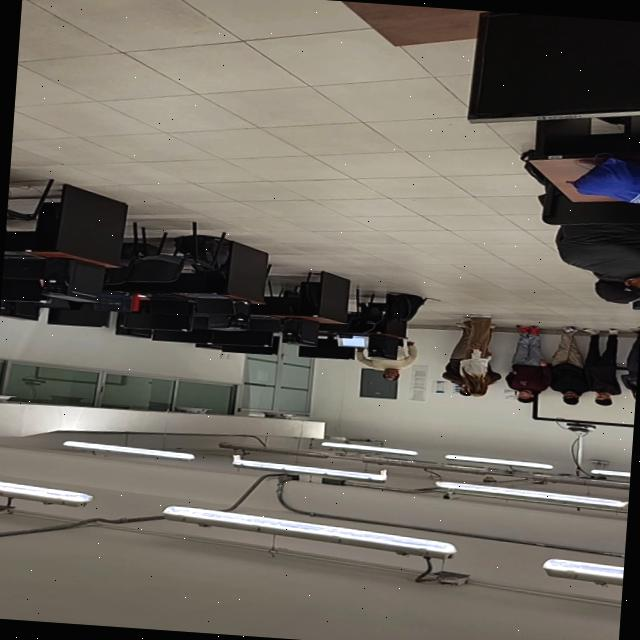Persona: (502, 323, 549, 406), (453, 312, 496, 399), (548, 324, 590, 406), (588, 325, 626, 409), (620, 324, 640, 405)
